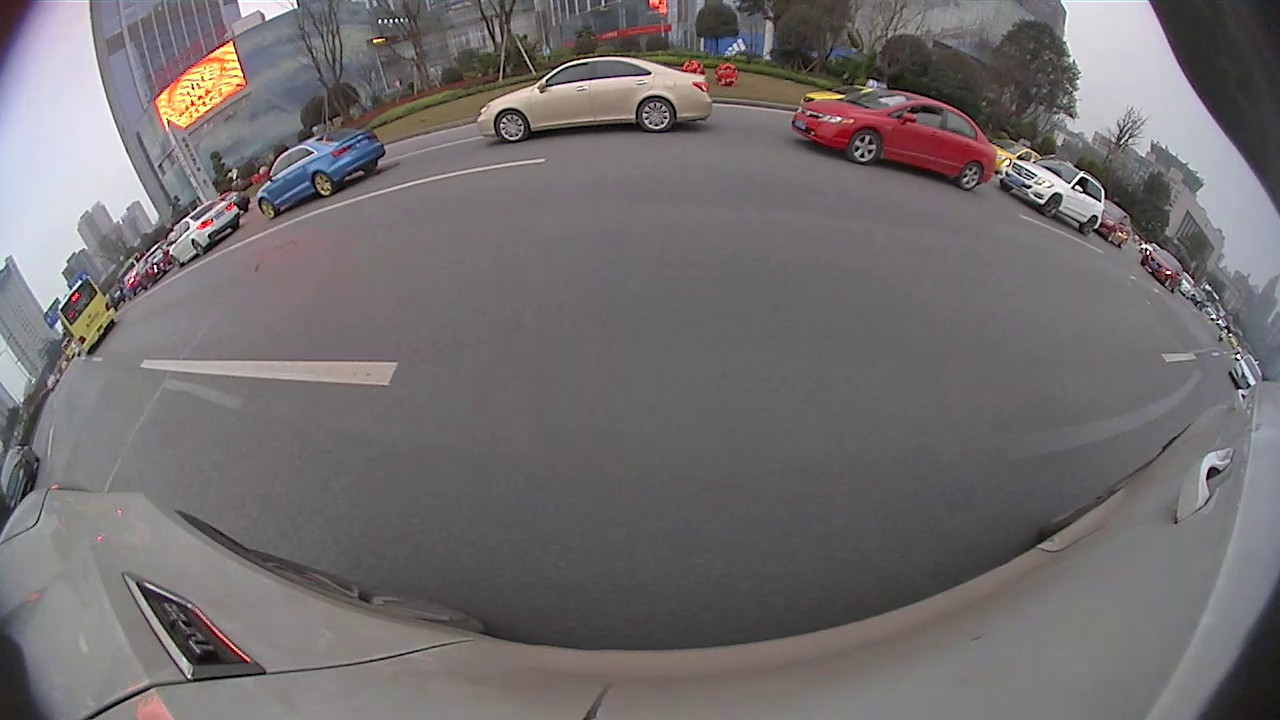bus: (58, 273, 117, 354)
car: (474, 53, 714, 147), (794, 88, 995, 194), (257, 128, 384, 221), (998, 153, 1103, 241), (168, 197, 243, 270), (800, 78, 892, 109), (986, 137, 1045, 178), (1094, 199, 1131, 251)
front: (492, 107, 533, 144), (845, 127, 882, 167), (1037, 191, 1062, 220), (255, 196, 277, 222), (167, 251, 182, 270)
rear: (631, 92, 679, 134), (953, 159, 985, 194), (311, 171, 336, 203), (1075, 213, 1100, 237), (360, 154, 381, 178), (191, 237, 211, 258), (223, 217, 240, 233)
